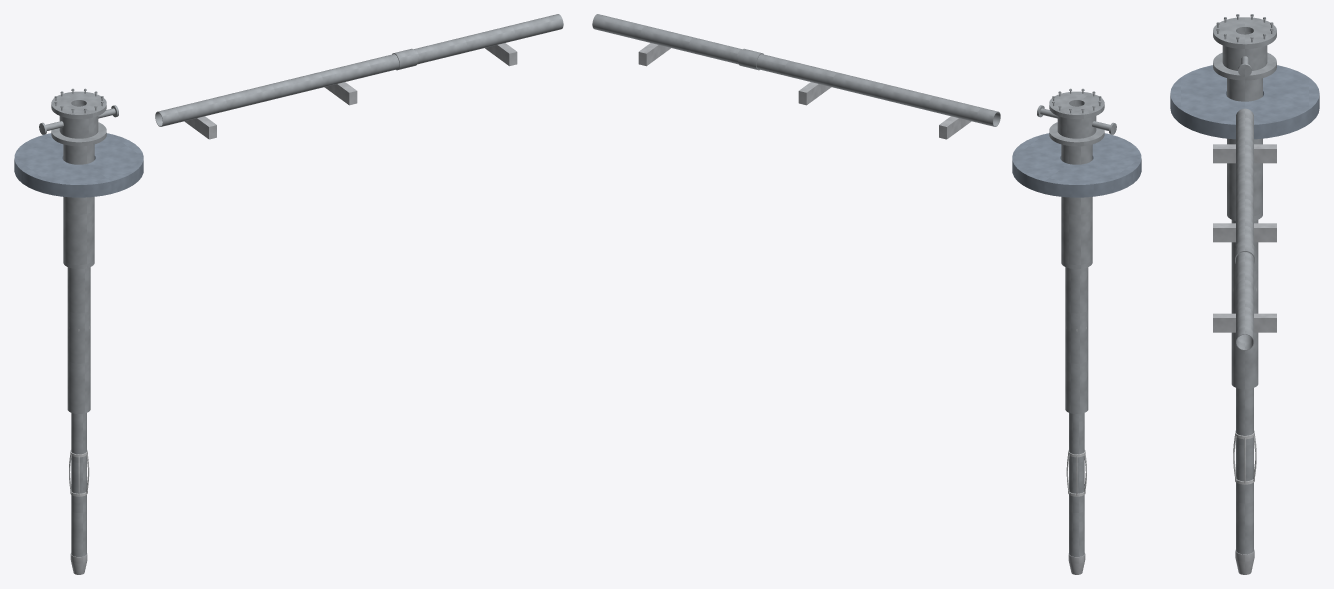
Rendered from borehole-steel-casing.glb.
3 renders of one model, left to right at view 1: azimuth 30°, elevation 25°; view 2: azimuth 150°, elevation 25°; view 3: azimuth 270°, elevation 25°, orthographic. The views are drawn at different scales.
Parts seen in each view (by area): view 1: CasingStrings, CasingJoint&Coupling, CellarPad(context), CasingHead, PipeRacks; view 2: CasingStrings, CasingJoint&Coupling, CellarPad(context), CasingHead, PipeRacks; view 3: CellarPad(context), CasingStrings, CasingJoint&Coupling, CasingHead, PipeRacks, Centralisers, GuideShoe.
Part boxes in pixels (left/top/right/bottom): CasingStrings: left=63, top=144, right=94, bottom=556; CasingJoint&Coupling: left=155, top=14, right=563, bottom=126; CellarPad(context): left=14, top=133, right=143, bottom=197; CasingHead: left=39, top=88, right=118, bottom=146; PipeRacks: left=184, top=43, right=517, bottom=139; CasingStrings: left=1061, top=144, right=1092, bottom=556; CasingJoint&Coupling: left=592, top=14, right=1000, bottom=126; CellarPad(context): left=1012, top=133, right=1141, bottom=197; CasingHead: left=1037, top=88, right=1116, bottom=146; PipeRacks: left=638, top=43, right=971, bottom=139; CellarPad(context): left=1170, top=65, right=1319, bottom=139; CasingStrings: left=1227, top=78, right=1262, bottom=554; CasingJoint&Coupling: left=1235, top=108, right=1254, bottom=350; CasingHead: left=1213, top=14, right=1276, bottom=80; PipeRacks: left=1213, top=144, right=1276, bottom=332; Centralisers: left=1233, top=288, right=1256, bottom=484; GuideShoe: left=1235, top=549, right=1254, bottom=574.
Size of the model in its own units: 13.4 by 11.3 by 2.8.
Materials: 4 (4 with a texture image).
